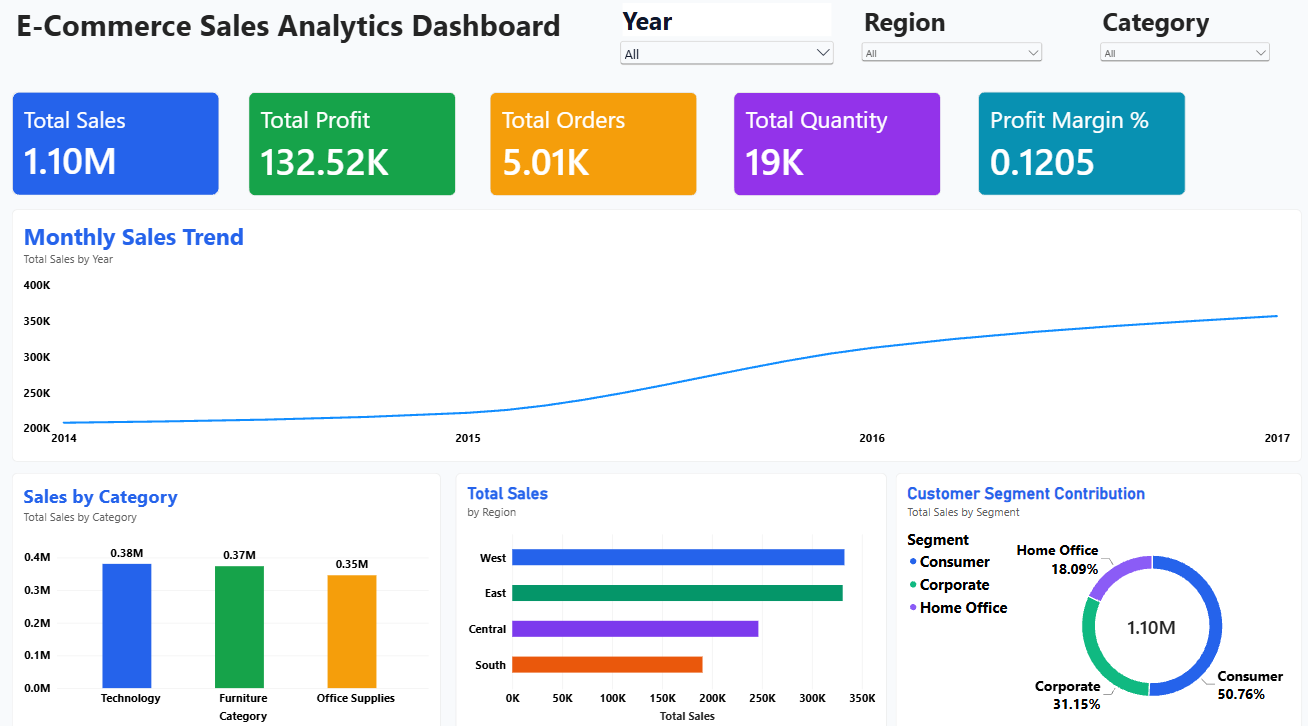

Layout of this report page (visuals, bound fields, positions):
{"tool":"powerbi","page":{"name":"Executive Dashboard","canvas":[1920,1080],"ordinal":0},"visuals":[{"type":"cardVisual","fields":{"Data":["Superstore Cleaned 1.Total Sales"]},"box":[36.2,150.2,300,150],"z":0},{"type":"cardVisual","fields":{"Data":["Superstore Cleaned 1.Total Profit"]},"box":[378.2,150.2,300,150],"z":1000},{"type":"cardVisual","fields":{"Data":["Superstore Cleaned 1.Total Orders"]},"box":[727.5,150.2,300,150],"z":2000},{"type":"cardVisual","fields":{"Data":["Superstore Cleaned 1.Total Quantity"]},"box":[1080.4,150.2,300,150],"z":3000},{"type":"cardVisual","fields":{"Data":["Superstore Cleaned 1.Profit Margin %"]},"box":[1435.1,150.2,300,150],"z":4000},{"type":"slicer","fields":{"Values":["Superstore Cleaned 1.Year"]},"box":[912.1,21.7,318.5,106.8],"z":5000},{"type":"slicer","fields":{"Values":["Superstore Cleaned 1.Region"]},"box":[1261.3,23.5,271.4,106.8],"z":6000},{"type":"slicer","fields":{"Values":["Superstore Cleaned 1.Category"]},"box":[1607,23.5,255.2,106.8],"z":7000},{"type":"lineChart","title":"Monthly Sales Trend","fields":{"Category":["Superstore Cleaned 1.Order_Date.Variation.Date Hierarchy.Year","Superstore Cleaned 1.Order_Date.Variation.Date Hierarchy.Quarter","Superstore Cleaned 1.Order_Date.Variation.Date Hierarchy.Month","Superstore Cleaned 1.Order_Date.Variation.Date Hierarchy.Day"],"Y":["Superstore Cleaned 1.Total Sales"]},"box":[36.2,320.3,1867.6,365.6],"z":8000},{"type":"textbox","box":[0,23.5,877.7,106.8],"z":9000},{"type":"clusteredColumnChart","title":"Sales by Category","fields":{"Category":["Superstore Cleaned 1.Category"],"Y":["Superstore Cleaned 1.Total Sales"]},"box":[36.2,702.1,620.7,378.2],"z":10000},{"type":"clusteredBarChart","fields":{"Category":["Superstore Cleaned 1.Region"],"Y":["Superstore Cleaned 1.Total Sales"]},"box":[678.6,702.1,624.3,378.2],"z":11000},{"type":"donutChart","title":"Customer Segment Contribution","fields":{"Category":["Superstore Cleaned 1.Segment"],"Y":["Superstore Cleaned 1.Total Sales"]},"box":[1315.6,702.1,588.1,378.2],"z":12000}]}

Visuals, with their boxes in screenshot pixels (x1, y1, x2, y2), scaled from the page's 1920x1080 canvas onto the 1308x726 screenshot:
cardVisual - Superstore Cleaned 1.Total Sales: detection(25, 101, 229, 202)
cardVisual - Superstore Cleaned 1.Total Profit: detection(258, 101, 462, 202)
cardVisual - Superstore Cleaned 1.Total Orders: detection(496, 101, 700, 202)
cardVisual - Superstore Cleaned 1.Total Quantity: detection(736, 101, 940, 202)
cardVisual - Superstore Cleaned 1.Profit Margin %: detection(978, 101, 1182, 202)
slicer - Superstore Cleaned 1.Year: detection(621, 15, 838, 86)
slicer - Superstore Cleaned 1.Region: detection(859, 16, 1044, 88)
slicer - Superstore Cleaned 1.Category: detection(1095, 16, 1269, 88)
"Monthly Sales Trend" lineChart: detection(25, 215, 1297, 461)
textbox: detection(0, 16, 598, 88)
"Sales by Category" clusteredColumnChart: detection(25, 472, 448, 725)
clusteredBarChart - Superstore Cleaned 1.Region x Superstore Cleaned 1.Total Sales: detection(462, 472, 888, 725)
"Customer Segment Contribution" donutChart: detection(896, 472, 1297, 725)
